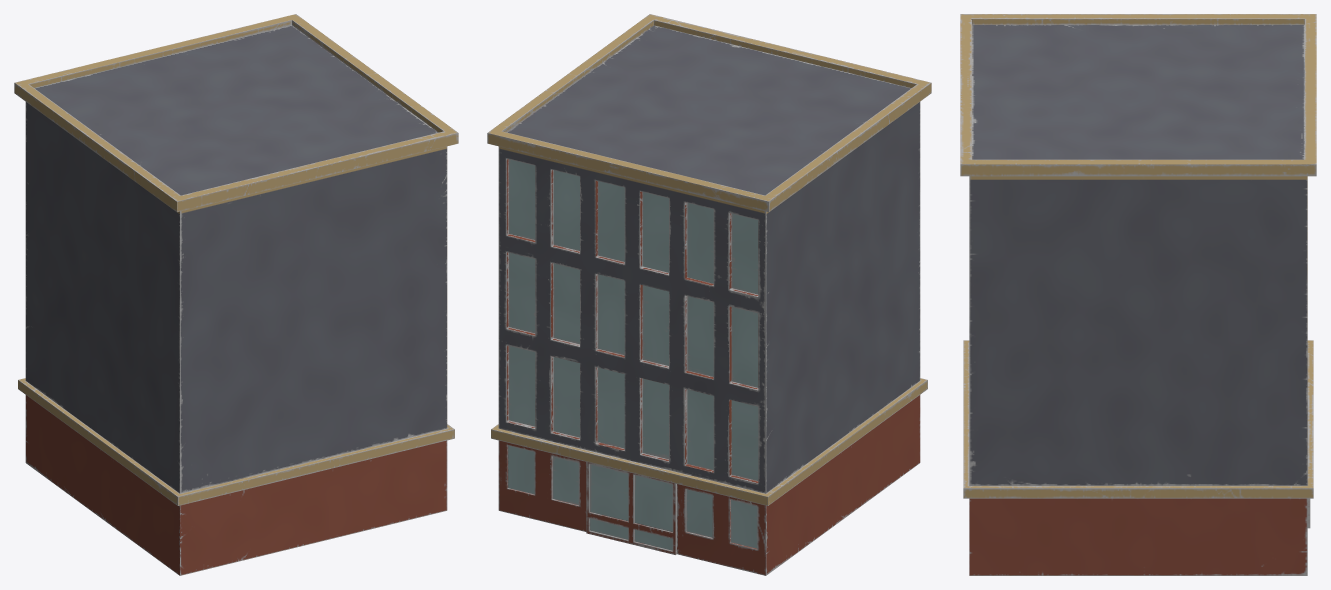
File: Highrise_3.fbx
3 views of the same model, side by side, from view 1: azimuth 30°, elevation 25°; view 2: azimuth 150°, elevation 25°; view 3: azimuth 270°, elevation 25° (orthographic). The views are drawn at different scales.
Visible parts, largest first — view 1: Highrise Alt.001; view 2: Highrise Alt.001; view 3: Highrise Alt.001.
Boxes of the visible parts, box(x1,y1,x2,y2) form: Highrise Alt.001: box(14, 14, 458, 575); Highrise Alt.001: box(487, 14, 931, 575); Highrise Alt.001: box(960, 14, 1316, 575).
Bounding box in the file's own units: 211 × 271 × 211.
1 material, 1 textured.
